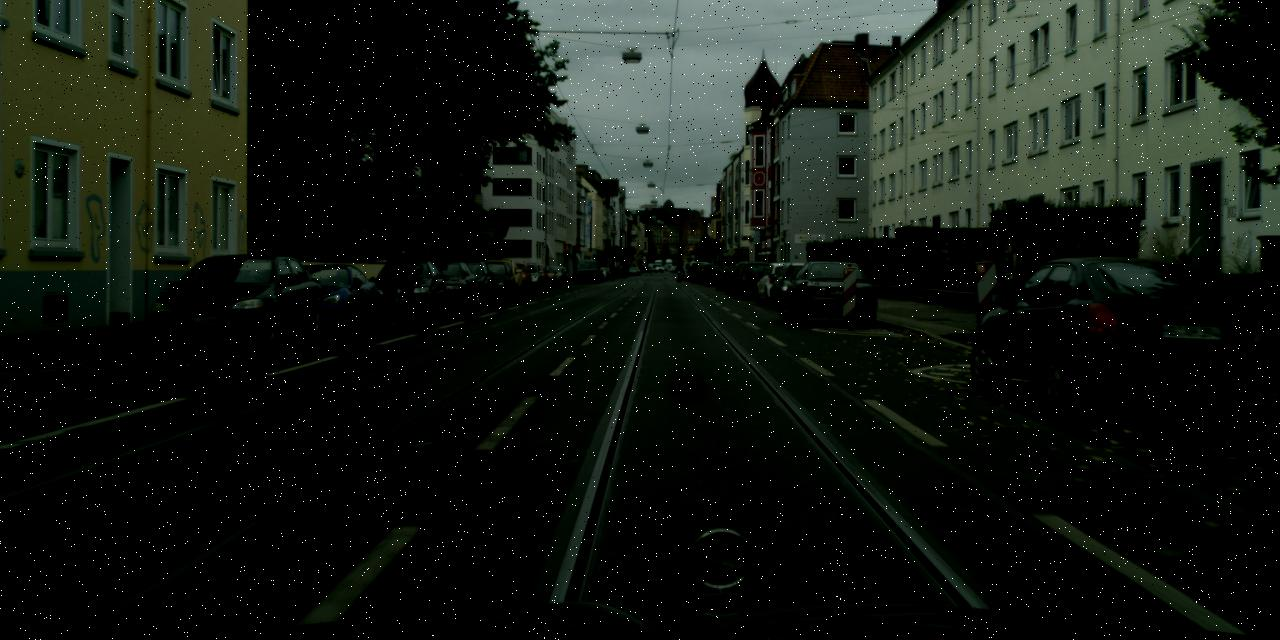ped: (392, 250, 410, 292), (675, 262, 683, 281), (690, 264, 696, 280), (609, 264, 615, 279), (621, 265, 625, 276)
